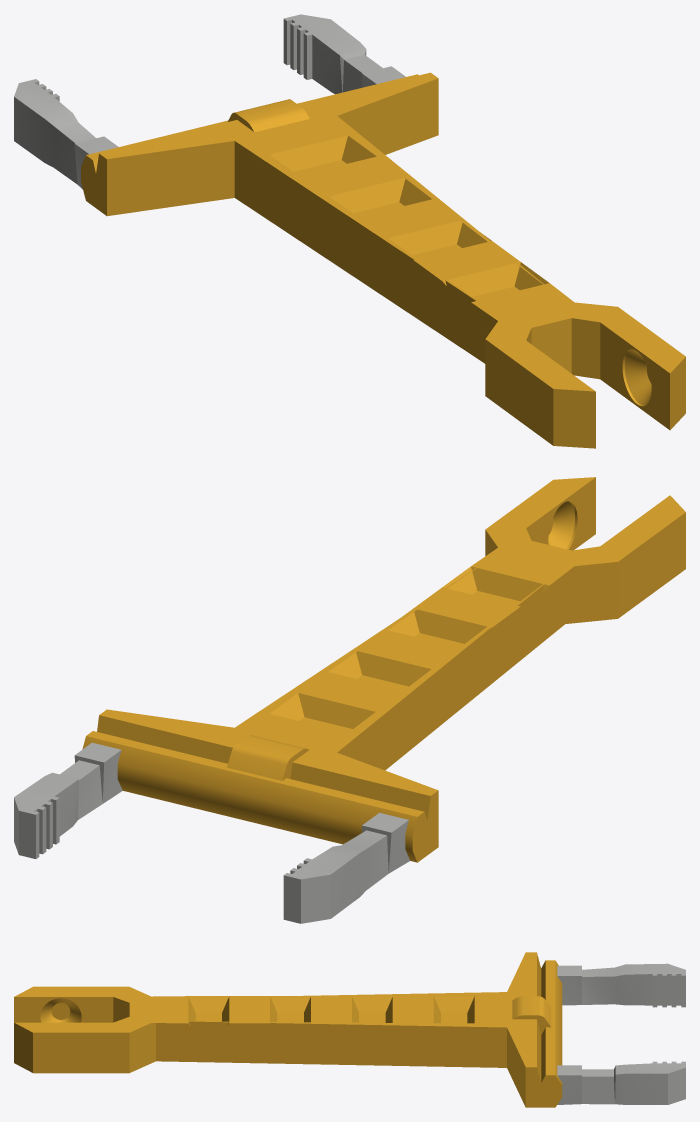
Rendered from inserter-arm-long-hand-open.glb.
3 views of the same model, one above another, from view 1: azimuth 30°, elevation 25°; view 2: azimuth 150°, elevation 25°; view 3: azimuth 270°, elevation 25° (orthographic). The views are drawn at different scales.
Visible parts, largest first — view 1: body; view 2: body; view 3: body.
Boxes of the visible parts, x1=… form: body: x1=14, y1=14, x2=685, y2=448; body: x1=14, y1=477, x2=685, y2=923; body: x1=14, y1=952, x2=685, y2=1107.
Size of the model in its own units: 0.5492 by 0.099 by 1.36.
